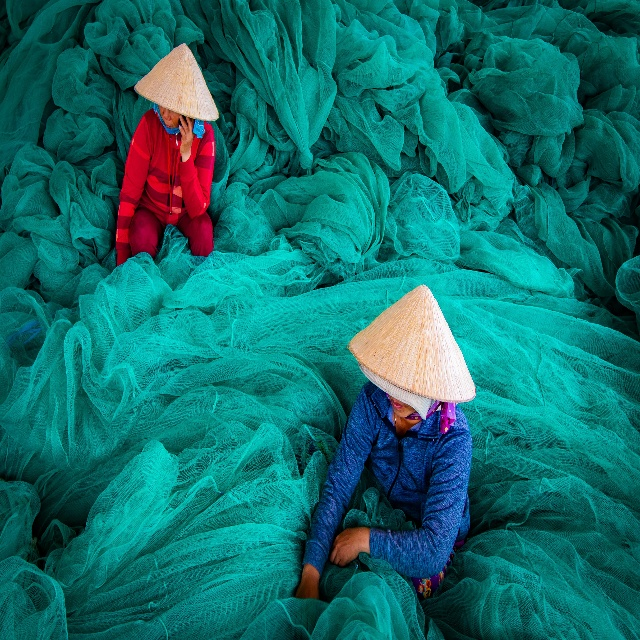Sin_guantes: (293, 581, 321, 627), (329, 529, 361, 568), (178, 114, 195, 156)
